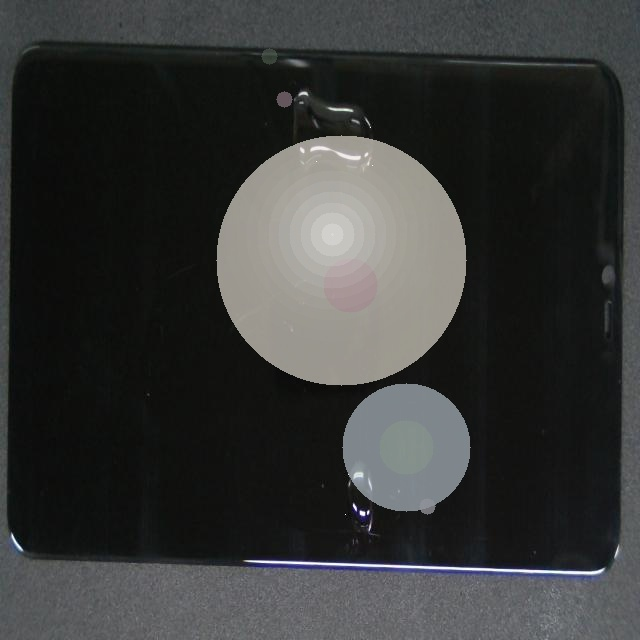oil: (170, 244, 509, 640), (199, 74, 550, 167)
